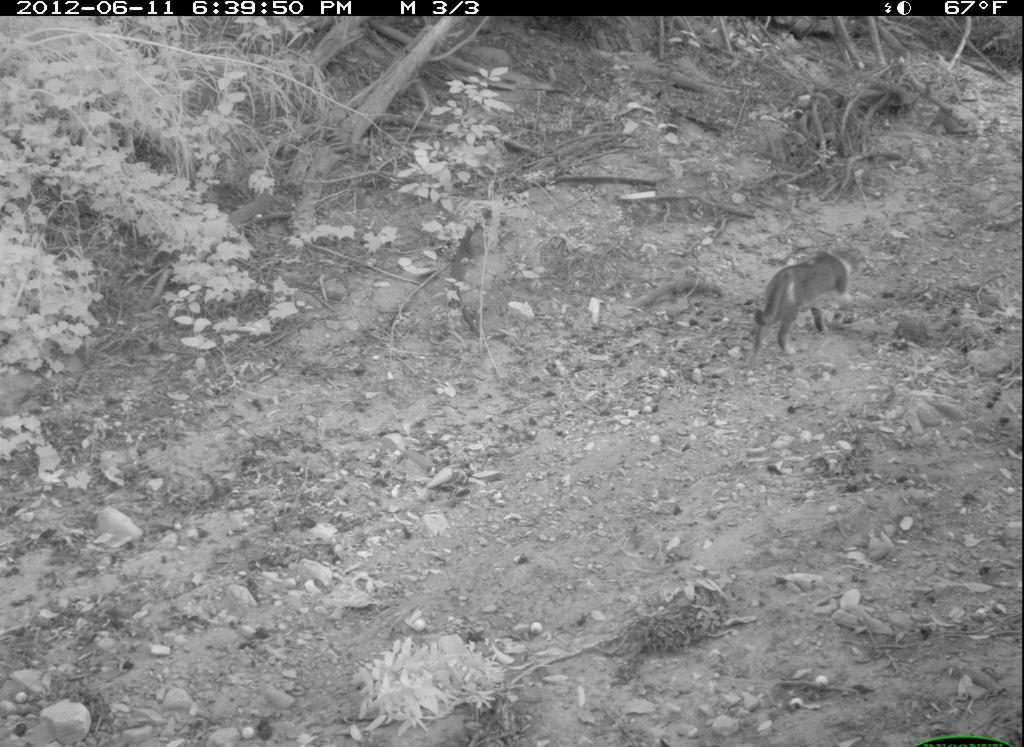cat: (730, 241, 879, 373)
